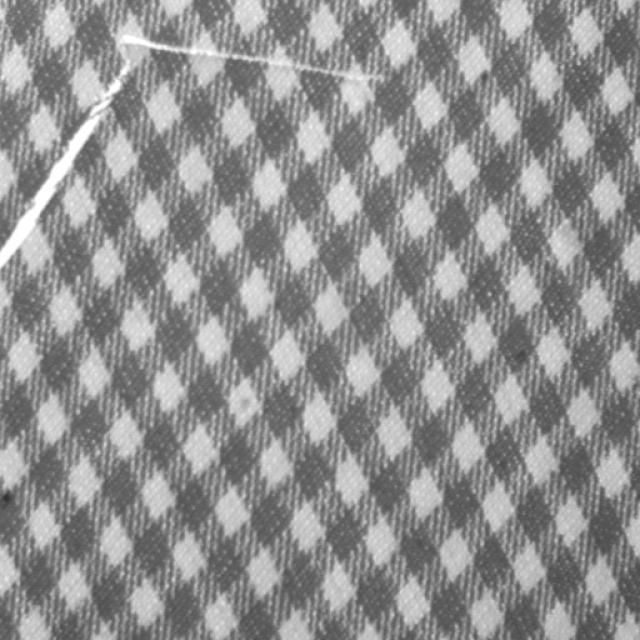Hole-Defect: (0, 30, 396, 276)
